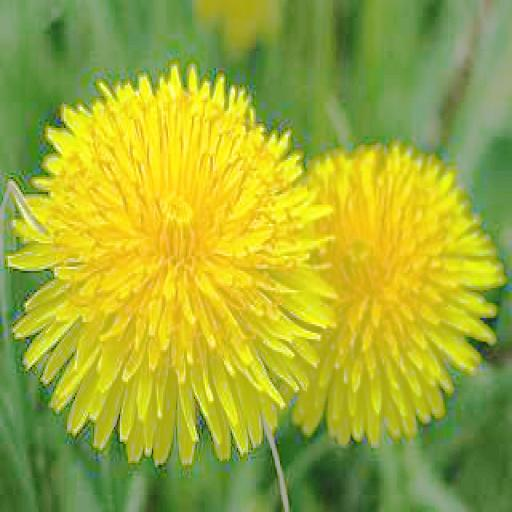dandelion: (11, 60, 322, 461), (288, 145, 498, 448)
